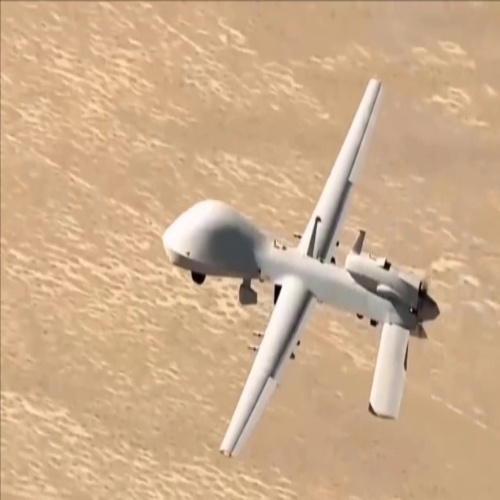uav798: (156, 74, 443, 455)
